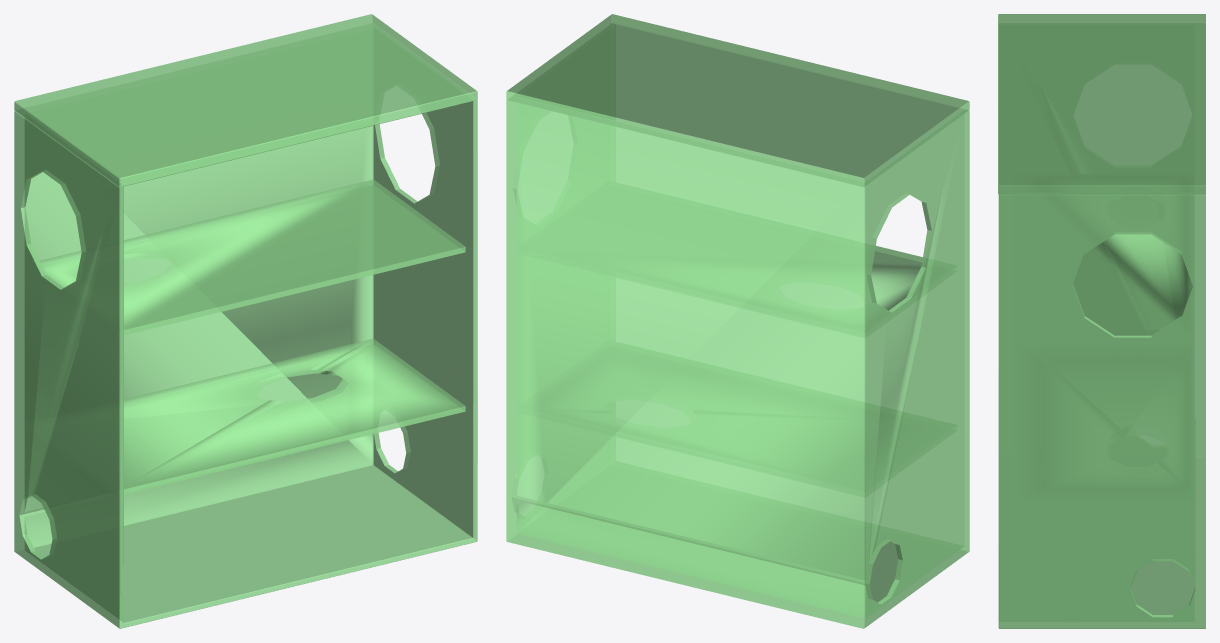
Rendered from RFAIPP_Kitchen_Cabinet_Up_Fixed.fbx.
The picture shows the model from 3 angles, left to right: view 1: azimuth 30°, elevation 25°; view 2: azimuth 150°, elevation 25°; view 3: azimuth 270°, elevation 25°; orthographic projection.
Visible parts, largest first — view 1: RFAIPP_Kitchen_Cabinet_Up; view 2: RFAIPP_Kitchen_Cabinet_Up; view 3: RFAIPP_Kitchen_Cabinet_Up.
Part boxes in pixels (x1,y1,x2,y2): RFAIPP_Kitchen_Cabinet_Up: [14, 14, 477, 628]; RFAIPP_Kitchen_Cabinet_Up: [506, 14, 969, 628]; RFAIPP_Kitchen_Cabinet_Up: [998, 14, 1205, 628].
Bounding box in the file's own units: 59.98 × 72.13 × 30.6.
